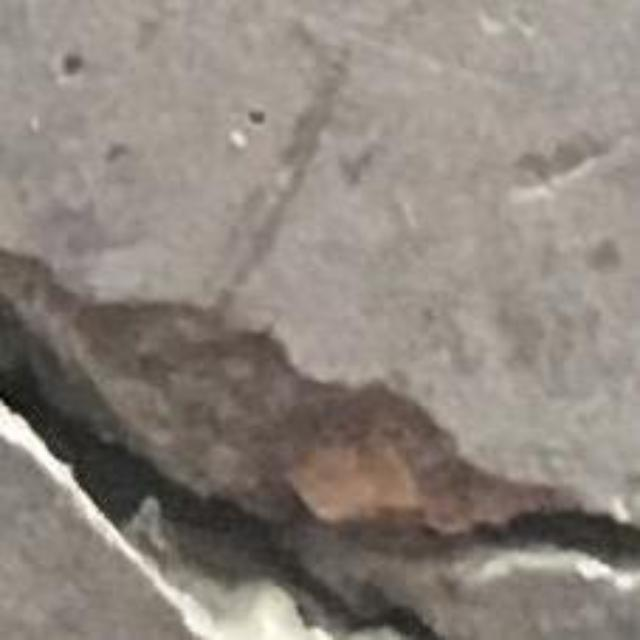crack: (0, 251, 639, 639)
